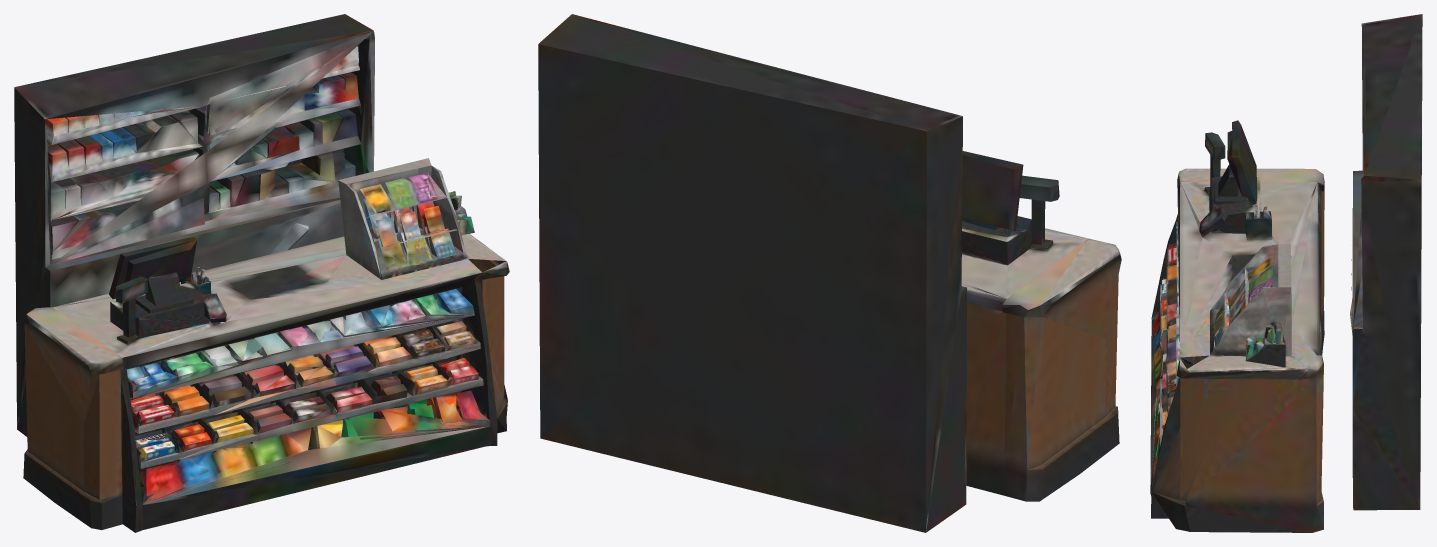
File: store_counter.glb
3 renders of one model, left to right at view 1: azimuth 30°, elevation 25°; view 2: azimuth 150°, elevation 25°; view 3: azimuth 270°, elevation 25°, orthographic. The views are drawn at different scales.
Bounding box in the file's own units: 1.9 × 1.48 × 1.08.
1 material, 1 textured.
